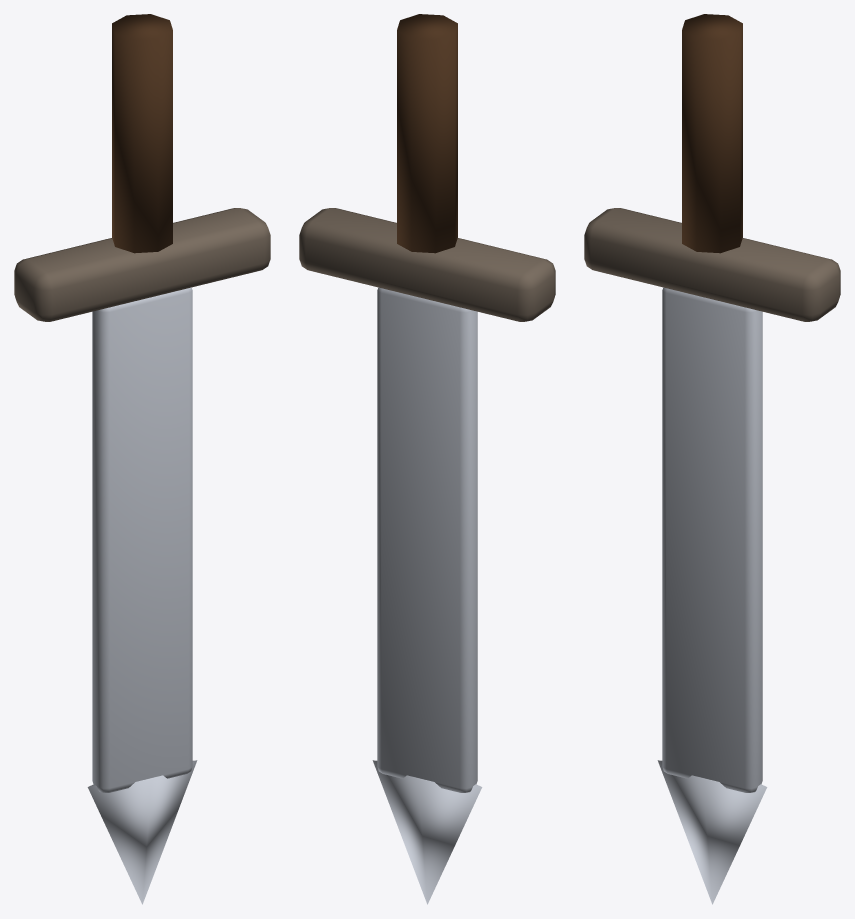
The model's file is weapon_assassino_comum.glb.
3 renders of one model, left to right at view 1: azimuth 30°, elevation 25°; view 2: azimuth 150°, elevation 25°; view 3: azimuth 330°, elevation 25°, orthographic.
Parts seen in each view (by area): view 1: weapon_assassino_comum; view 2: weapon_assassino_comum; view 3: weapon_assassino_comum.
Boxes of the visible parts, box(x1,y1,x2,y2) form: weapon_assassino_comum: box(14, 14, 270, 904); weapon_assassino_comum: box(299, 14, 555, 904); weapon_assassino_comum: box(584, 14, 840, 904).
Size of the model in its own units: 0.3 by 1.07 by 0.07.
